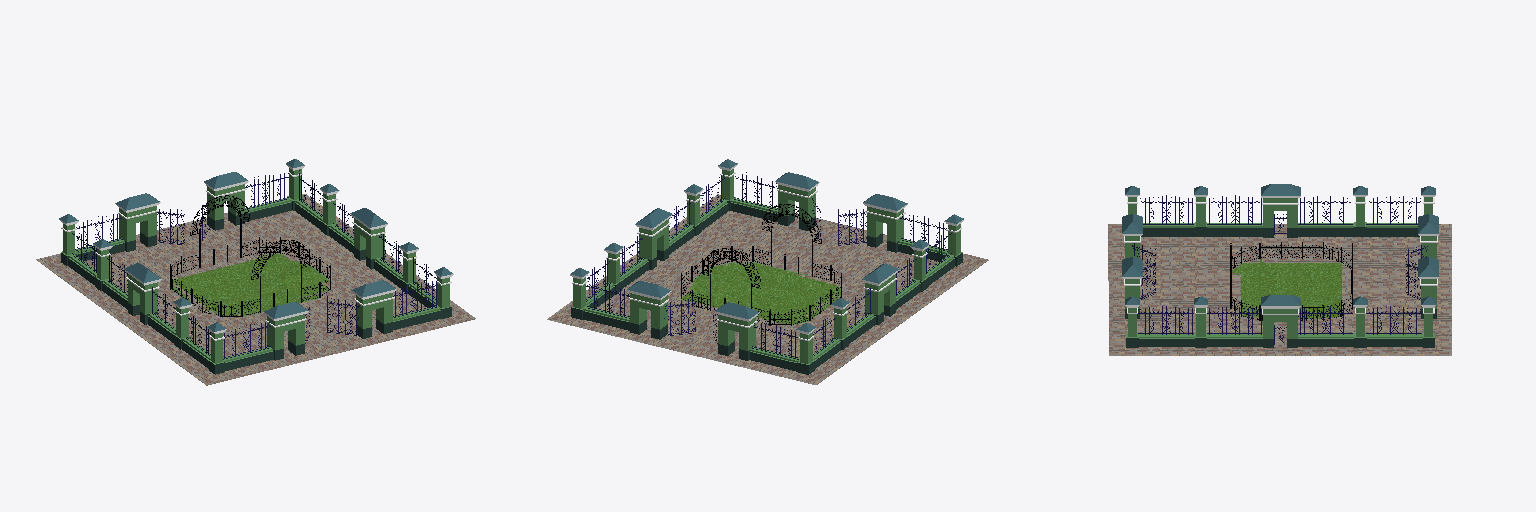
3 views of the same model, side by side, from view 1: azimuth 30°, elevation 25°; view 2: azimuth 150°, elevation 25°; view 3: azimuth 270°, elevation 25° (orthographic).
Visible parts, largest first — view 1: Plane, ConcreteFence.002, ConcreteFence.001_ConcreteFence.002, ConcreteFence_section, ConcreteFence_section.001_ConcreteFence_section, ConcreteFence_small.001_ConcreteFence_small, ConcreteFence_small, ConcreteFence_section.010_ConcreteFence_section, ConcreteFence_section.002_ConcreteFence_section, ConcreteFence_section.011_ConcreteFence_section, ConcreteFence_section.006_ConcreteFence_section, ConcreteFence_section.008_ConcreteFence_section (+6 smaller); view 2: Plane, ConcreteFence.001_ConcreteFence.002, ConcreteFence.002, ConcreteFence_section.011_ConcreteFence_section, ConcreteFence_section.010_ConcreteFence_section, ConcreteFence_small, ConcreteFence_small.001_ConcreteFence_small, ConcreteFence_section, ConcreteFence_section.001_ConcreteFence_section, ConcreteFence_section.004_ConcreteFence_section, ConcreteFence_section.006_ConcreteFence_section, ConcreteFence_section.002_ConcreteFence_section (+2 smaller); view 3: Plane, ConcreteFence.001_ConcreteFence.002, ConcreteFence.002, ConcreteFence_section.004_ConcreteFence_section, ConcreteFence_section.008_ConcreteFence_section, ConcreteFence_small, ConcreteFence_section.002_ConcreteFence_section, ConcreteFence_section.006_ConcreteFence_section, ConcreteFence_small.001_ConcreteFence_small, ConcreteFence_section.005_ConcreteFence_section.001, ConcreteFence_section.003_ConcreteFence_section.001, ConcreteFence_section.009_ConcreteFence_section.001 (+3 smaller).
Boxes of the visible parts, x1,y1,x2,y2 form: Plane: [36, 194, 475, 385]; ConcreteFence.002: [264, 280, 396, 360]; ConcreteFence.001_ConcreteFence.002: [115, 172, 248, 251]; ConcreteFence_section: [393, 267, 453, 329]; ConcreteFence_section.001_ConcreteFence_section: [207, 322, 273, 374]; ConcreteFence_small.001_ConcreteFence_small: [350, 208, 387, 269]; ConcreteFence_small: [124, 263, 161, 324]; ConcreteFence_section.010_ConcreteFence_section: [245, 159, 304, 221]; ConcreteFence_section.002_ConcreteFence_section: [173, 297, 210, 368]; ConcreteFence_section.011_ConcreteFence_section: [59, 214, 124, 265]; ConcreteFence_section.006_ConcreteFence_section: [93, 239, 127, 309]; ConcreteFence_section.008_ConcreteFence_section: [320, 184, 353, 253]; Plane: [547, 194, 988, 384]; ConcreteFence.001_ConcreteFence.002: [626, 281, 759, 360]; ConcreteFence.002: [775, 172, 907, 252]; ConcreteFence_section.011_ConcreteFence_section: [750, 323, 815, 374]; ConcreteFence_section.010_ConcreteFence_section: [570, 268, 629, 330]; ConcreteFence_small: [861, 263, 898, 324]; ConcreteFence_small.001_ConcreteFence_small: [635, 208, 672, 269]; ConcreteFence_section: [718, 159, 777, 221]; ConcreteFence_section.001_ConcreteFence_section: [898, 214, 963, 266]; ConcreteFence_section.004_ConcreteFence_section: [684, 175, 728, 235]; ConcreteFence_section.006_ConcreteFence_section: [830, 288, 875, 349]; ConcreteFence_section.002_ConcreteFence_section: [910, 230, 954, 291]; Plane: [1108, 224, 1451, 355]; ConcreteFence.001_ConcreteFence.002: [1405, 214, 1438, 318]; ConcreteFence.002: [1122, 214, 1155, 318]; ConcreteFence_section.004_ConcreteFence_section: [1138, 296, 1207, 347]; ConcreteFence_section.008_ConcreteFence_section: [1298, 296, 1367, 347]; ConcreteFence_small: [1261, 184, 1300, 237]; ConcreteFence_section.002_ConcreteFence_section: [1140, 186, 1207, 236]; ConcreteFence_section.006_ConcreteFence_section: [1298, 186, 1367, 236]; ConcreteFence_small.001_ConcreteFence_small: [1261, 295, 1300, 347]; ConcreteFence_section.005_ConcreteFence_section.001: [1207, 306, 1262, 346]; ConcreteFence_section.003_ConcreteFence_section.001: [1207, 195, 1262, 236]; ConcreteFence_section.009_ConcreteFence_section.001: [1366, 306, 1422, 346].
Bounding box in the file's own units: 20.48 × 4.87 × 22.53.
Materials: 12 (7 with a texture image).